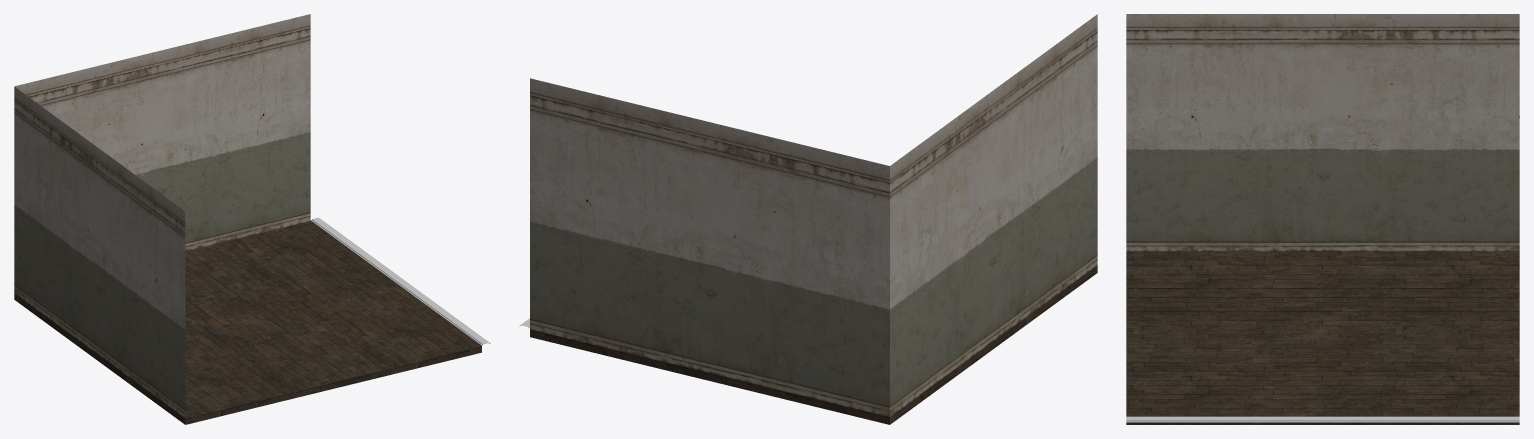
The model's file is hallway_end_corner_right.fbx.
3 renders of one model, left to right at view 1: azimuth 30°, elevation 25°; view 2: azimuth 150°, elevation 25°; view 3: azimuth 270°, elevation 25°, orthographic. The views are drawn at different scales.
Visible parts, largest first — view 1: hallway_end_corner_right; view 2: hallway_end_corner_right; view 3: hallway_end_corner_right.
Boxes of the visible parts, box(x1,y1,x2,y2) form: hallway_end_corner_right: box(14, 14, 490, 424); hallway_end_corner_right: box(519, 14, 1097, 424); hallway_end_corner_right: box(1126, 14, 1519, 424).
Size of the model in its own units: 618 by 412 by 600.
